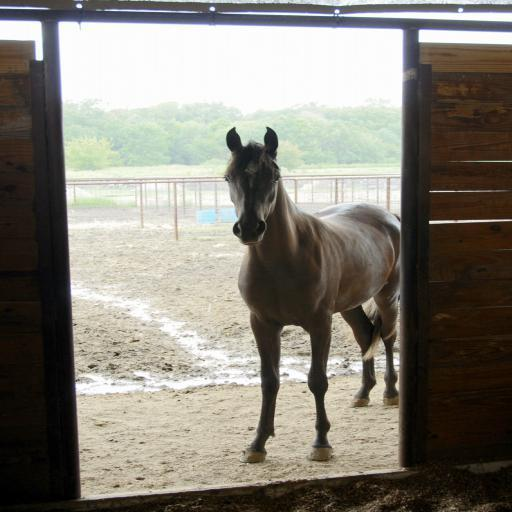horse: (223, 128, 408, 466)
